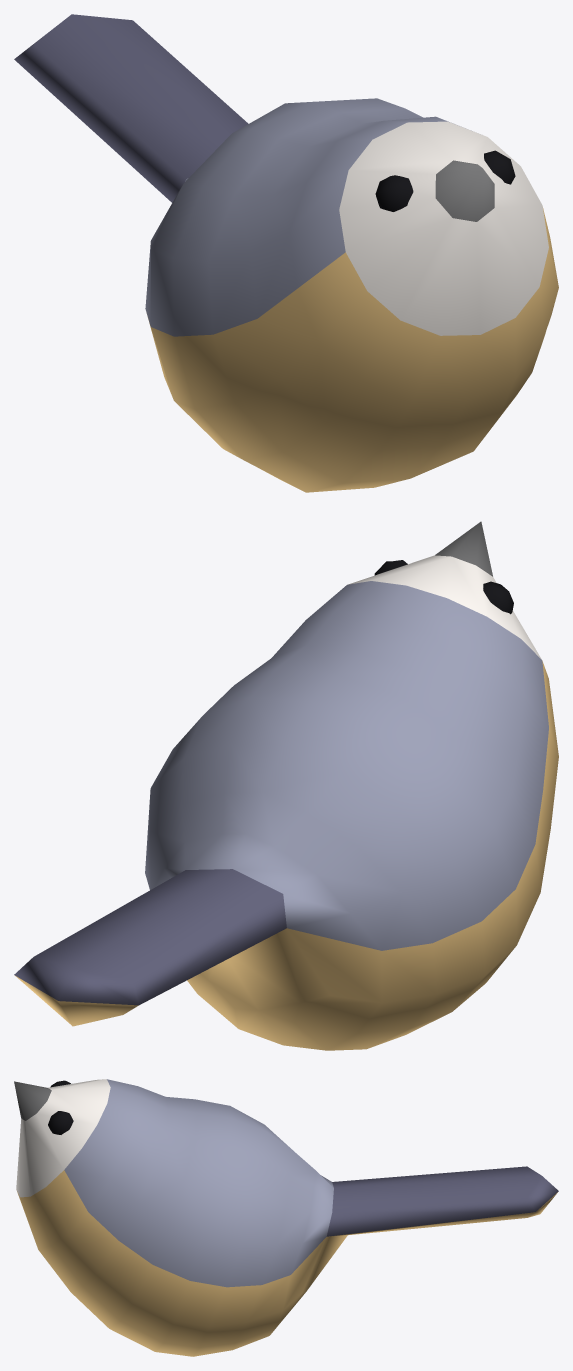
The model's file is Blue_Tit.glb.
3 renders of one model, top to bottom at view 1: azimuth 30°, elevation 25°; view 2: azimuth 150°, elevation 25°; view 3: azimuth 270°, elevation 25°, orthographic. The views are drawn at different scales.
Visible parts, largest first — view 1: Blue_Tit; view 2: Blue_Tit; view 3: Blue_Tit.
Part boxes in pixels (x1=…): Blue_Tit: x1=14, y1=14, x2=558, y2=492; Blue_Tit: x1=14, y1=521, x2=558, y2=1050; Blue_Tit: x1=14, y1=1079, x2=558, y2=1356.
Size of the model in its own units: 0.1613 by 0.1839 by 0.3452.
Materials: 1 (1 with a texture image).
